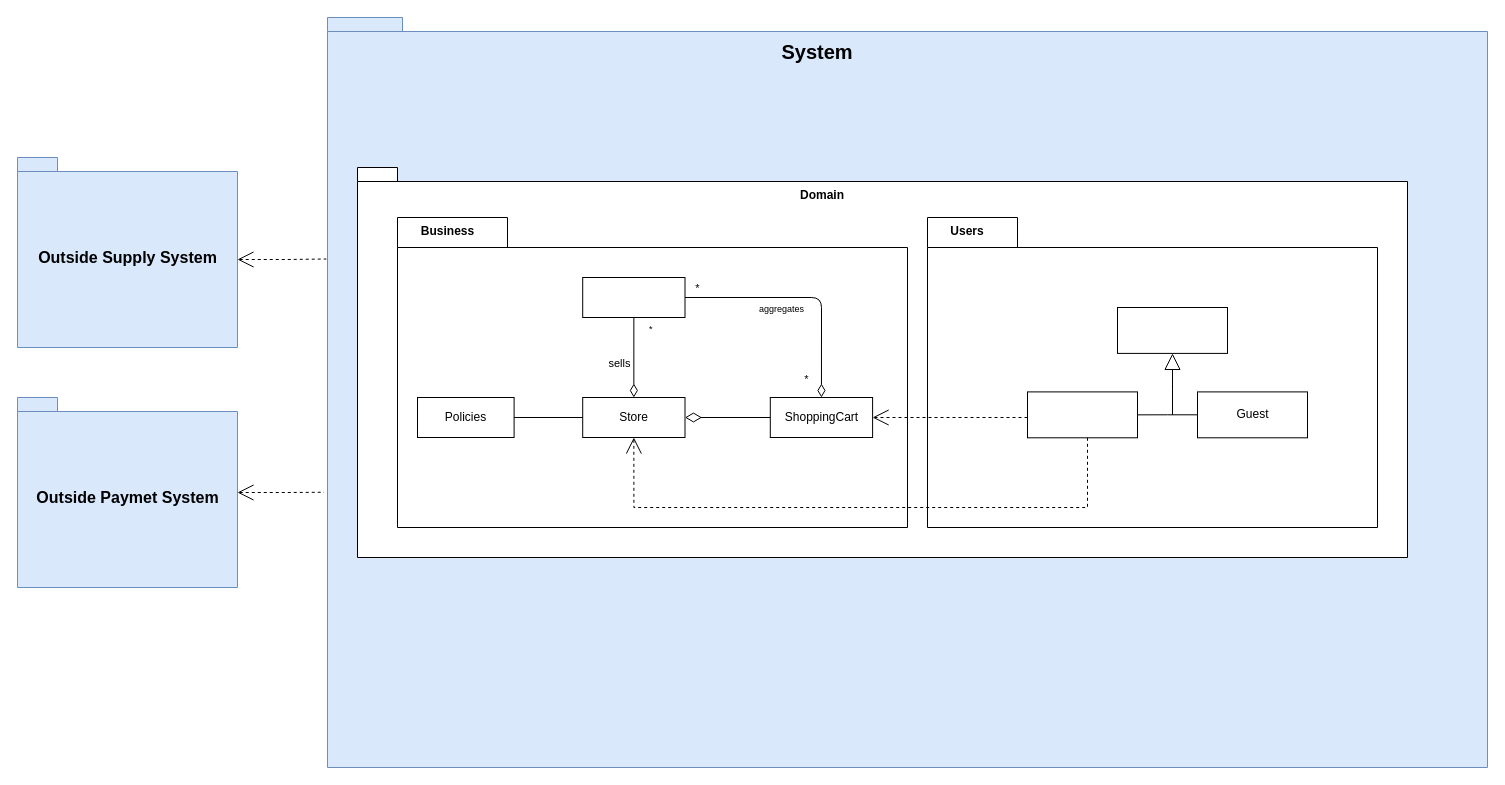
Some shapes in this 1505 by 785 pixel diagram are drawn without their labels. Each missing label, with the centre of its shape:
Product: point 633,297
Registered: point 1082,414
«interface» User: point 1172,329
